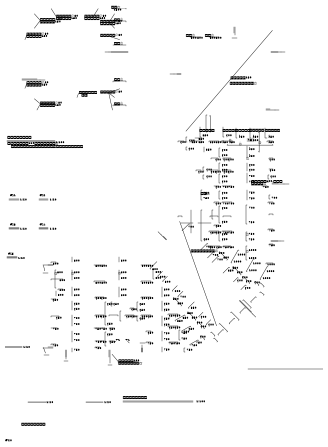wall: (186, 308, 275, 422), (180, 87, 218, 205), (241, 100, 255, 116)
